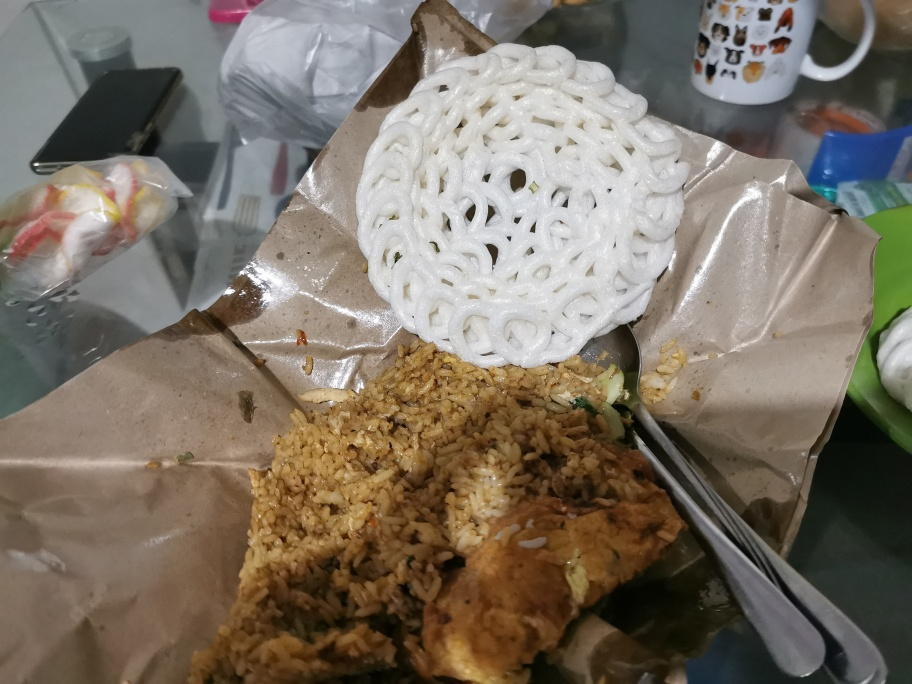kerupuk: (354, 45, 683, 351)
nasi goreng: (217, 350, 703, 684)
